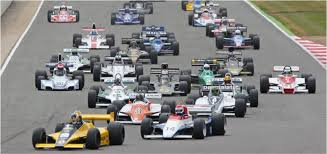FormulaOneCar: (25, 110, 129, 153), (139, 101, 228, 144), (258, 63, 319, 97), (138, 63, 192, 97), (111, 92, 166, 125), (91, 49, 145, 82), (211, 24, 262, 51), (108, 5, 147, 26), (47, 3, 81, 24)
